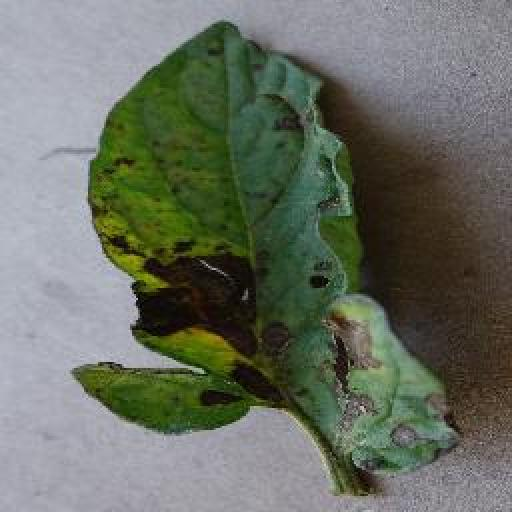Early Blight: (70, 20, 461, 479)
